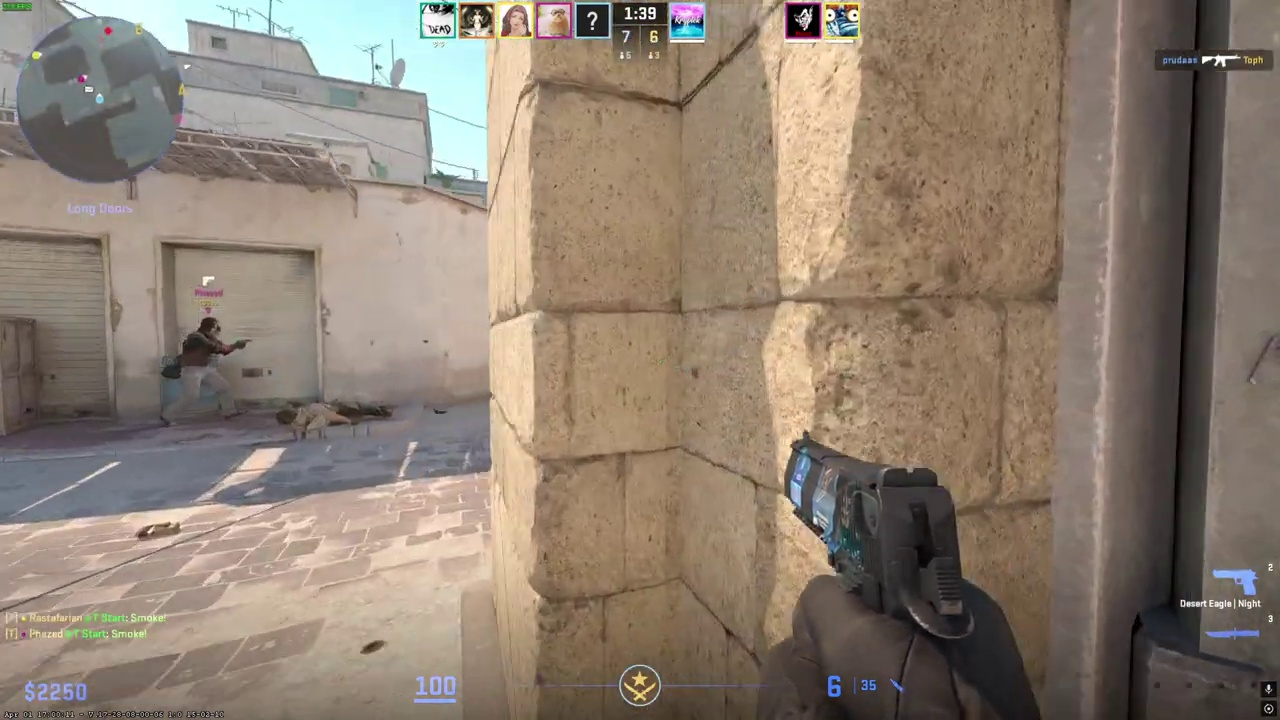Terrorist: (167, 315, 242, 424)
